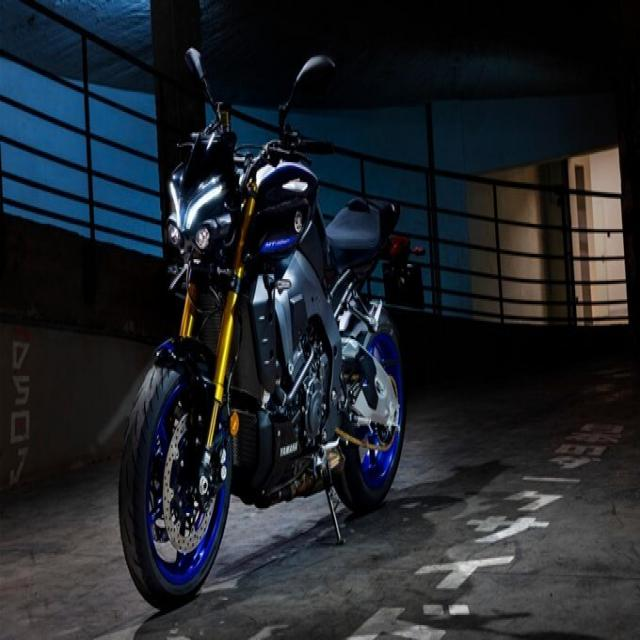Bike: (117, 46, 409, 614)
